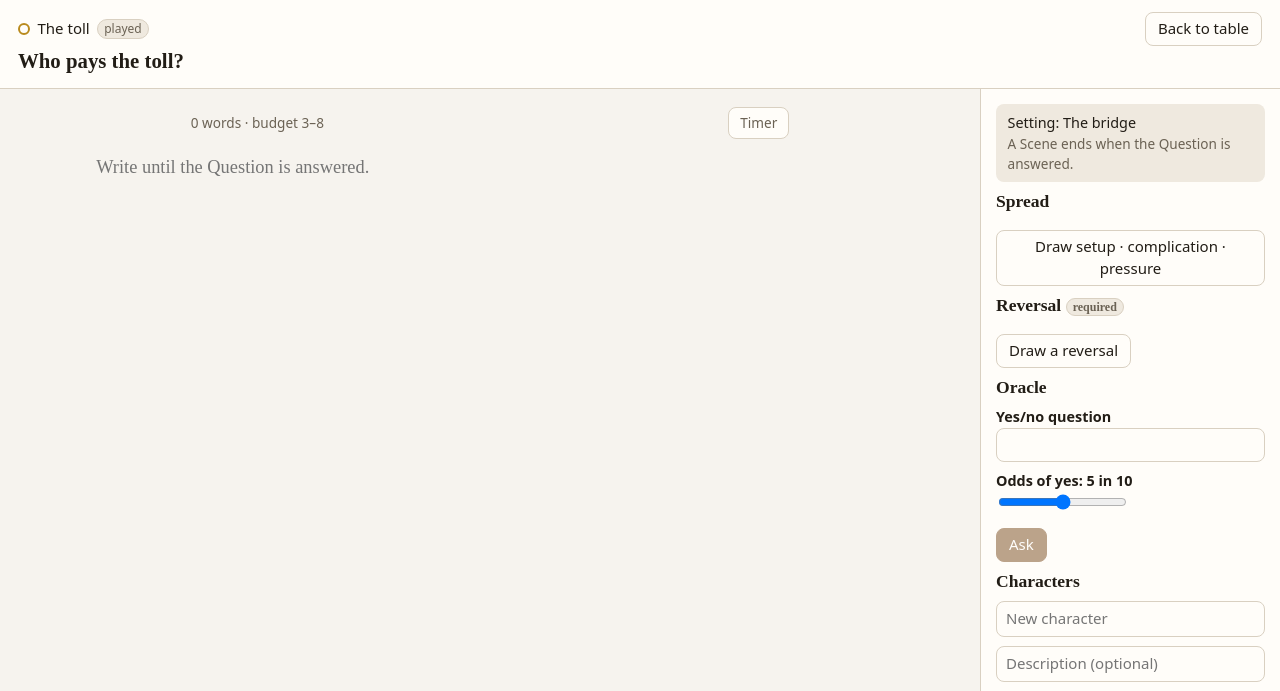
Scenario: Scene editor: drafting › enforced reversal is required and cannot be replaced
The image size is (1280, 691).
Expected: the text "required" is shown, [1066,298,1124,316]
Step 1. Click the button "Draw a reversal" → coordinates (1064, 351), box [996,334,1131,368]
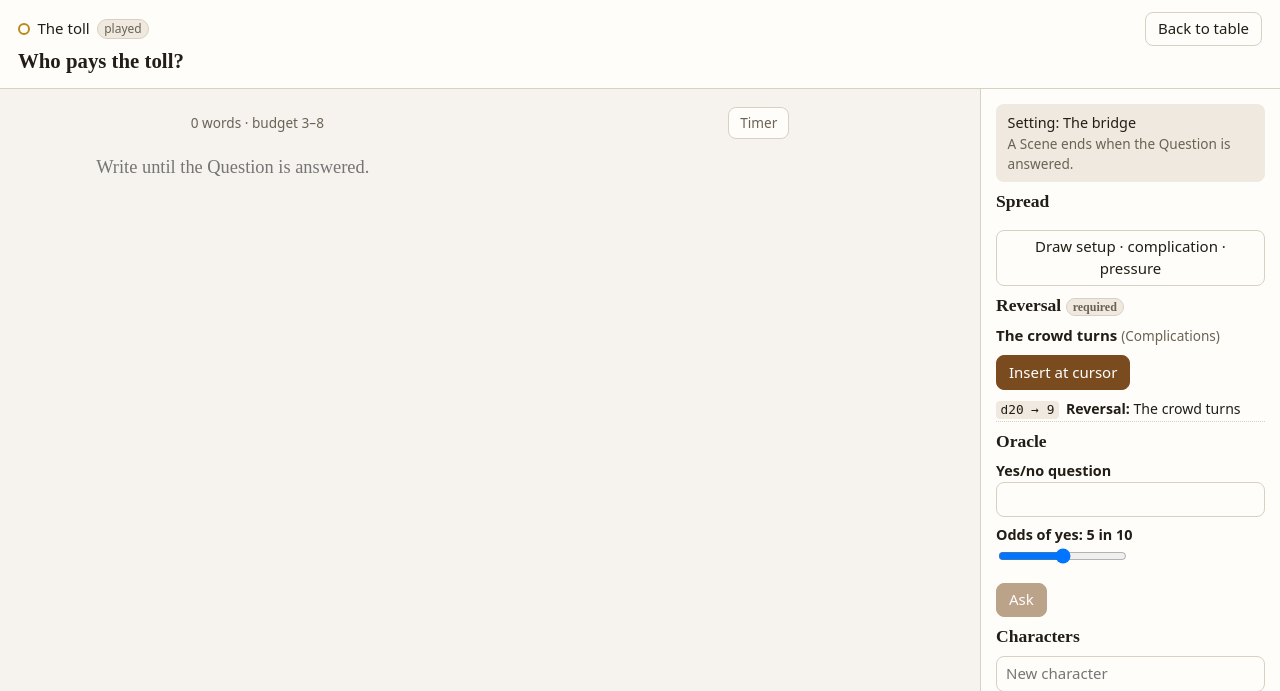
Expected: the button "Insert at cursor" is shown, [996,355,1130,390]
